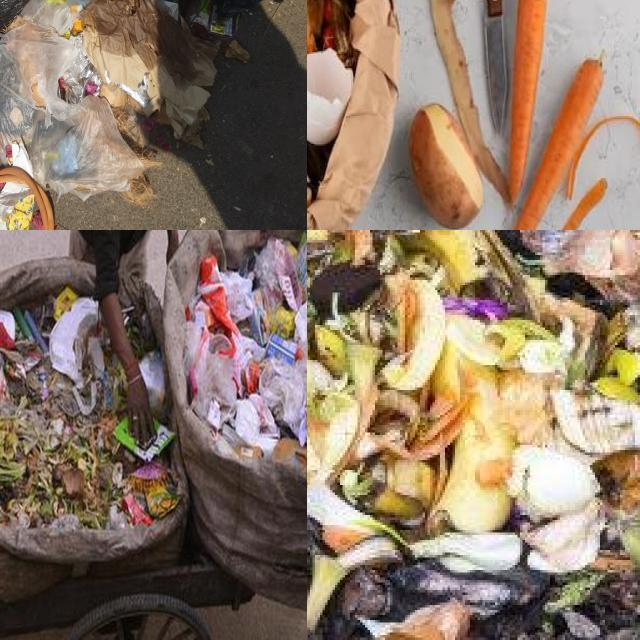Garbage: (307, 230, 640, 640), (0, 235, 181, 529), (180, 230, 307, 473)
Plastic_Bag: (0, 0, 144, 199), (184, 257, 307, 462), (50, 298, 98, 383), (146, 484, 180, 517), (53, 286, 77, 320)
Plastic_wraper: (113, 417, 175, 462), (208, 6, 238, 36)
Tetrapack: (297, 230, 307, 297)
